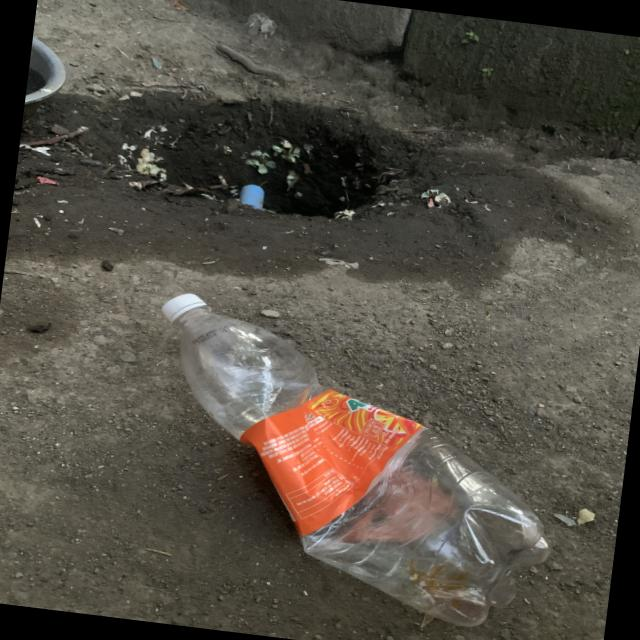Bottle: (161, 293, 549, 625)
